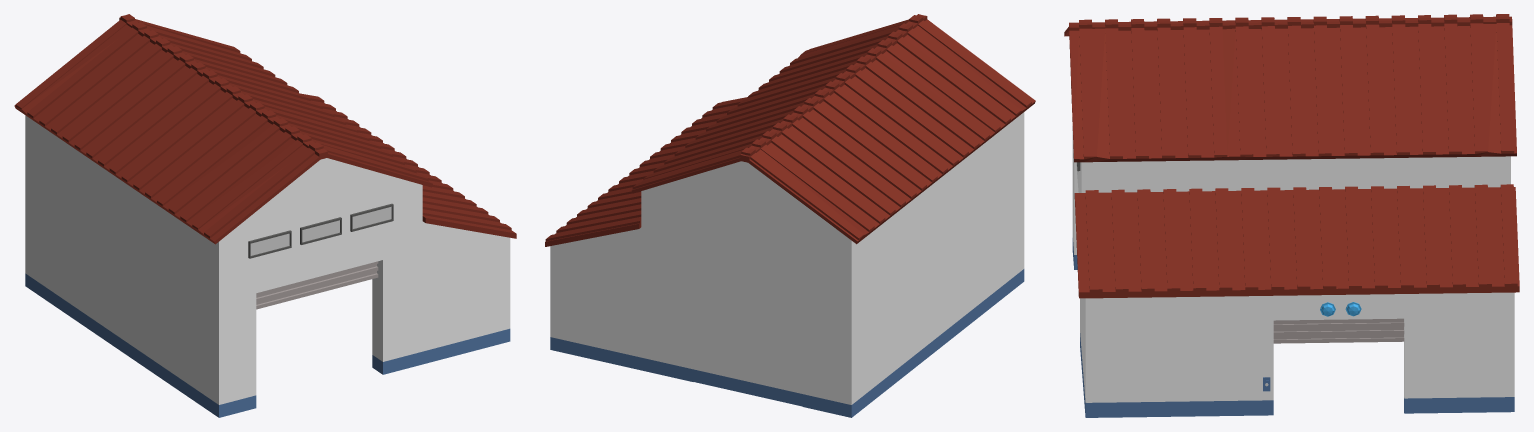
The model's file is Domik_2.fbx.
3 views of the same model, side by side, from view 1: azimuth 30°, elevation 25°; view 2: azimuth 150°, elevation 25°; view 3: azimuth 270°, elevation 25° (orthographic). The views are drawn at different scales.
Parts seen in each view (by area): view 1: Здание_001; view 2: Здание_001; view 3: Здание_001.
Boxes of the visible parts, box(x1,y1,x2,y2) form: Здание_001: box(14, 14, 516, 417); Здание_001: box(545, 14, 1035, 417); Здание_001: box(1064, 14, 1519, 417).
Bounding box in the file's own units: 2565 × 1870 × 2710.
